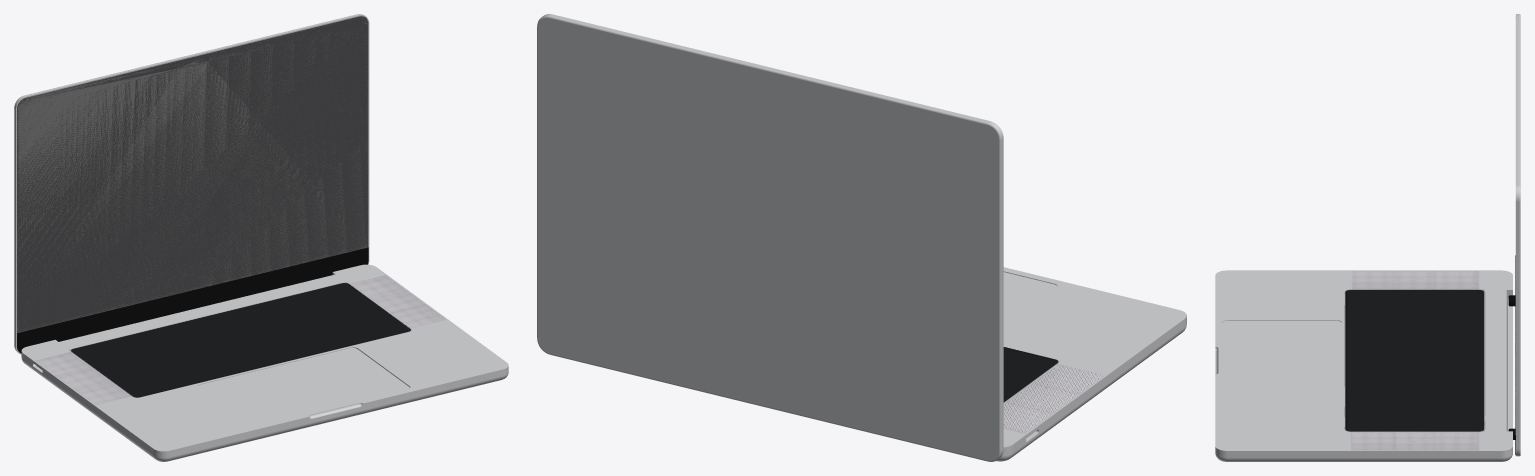
Rendered from macbook.glb.
3 views of the same model, side by side, from view 1: azimuth 30°, elevation 25°; view 2: azimuth 150°, elevation 25°; view 3: azimuth 270°, elevation 25° (orthographic). The views are drawn at different scales.
Parts seen in each view (by area): view 1: Object_7, Object_5, Object_4, Object_2, Object_8, Object_3; view 2: Object_3, Object_4, Object_2; view 3: Object_4, Object_2, Object_3, Object_5, Object_8.
Part boxes in pixels (x1=…): Object_7: x1=17, y1=16, x2=368, y2=332; Object_5: x1=17, y1=16, x2=368, y2=332; Object_4: x1=21, y1=264, x2=508, y2=461; Object_2: x1=198, y1=348, x2=409, y2=426; Object_8: x1=17, y1=59, x2=368, y2=353; Object_3: x1=14, y1=14, x2=369, y2=354; Object_3: x1=537, y1=14, x2=1003, y2=461; Object_4: x1=996, y1=267, x2=1186, y2=461; Object_2: x1=1003, y1=272, x2=1057, y2=325; Object_4: x1=1215, y1=270, x2=1512, y2=461; Object_2: x1=1222, y1=320, x2=1341, y2=401; Object_3: x1=1516, y1=14, x2=1520, y2=456; Object_5: x1=1515, y1=15, x2=1515, y2=434; Object_8: x1=1508, y1=255, x2=1515, y2=455.
Bounding box in the file's own units: 3.56 × 2.53 × 2.54.
Materials: 7 (1 with a texture image).
